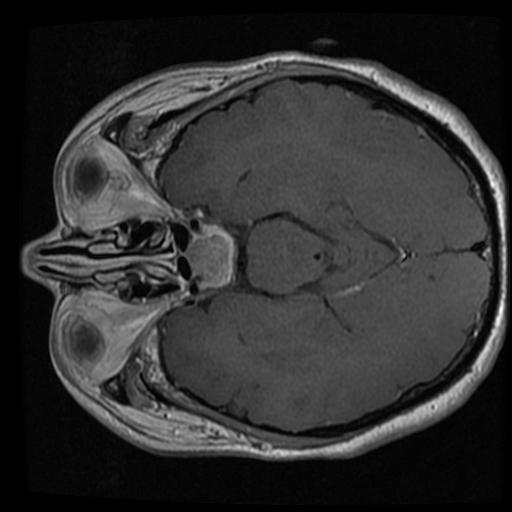pituitary tumour: (183, 231, 233, 287)
